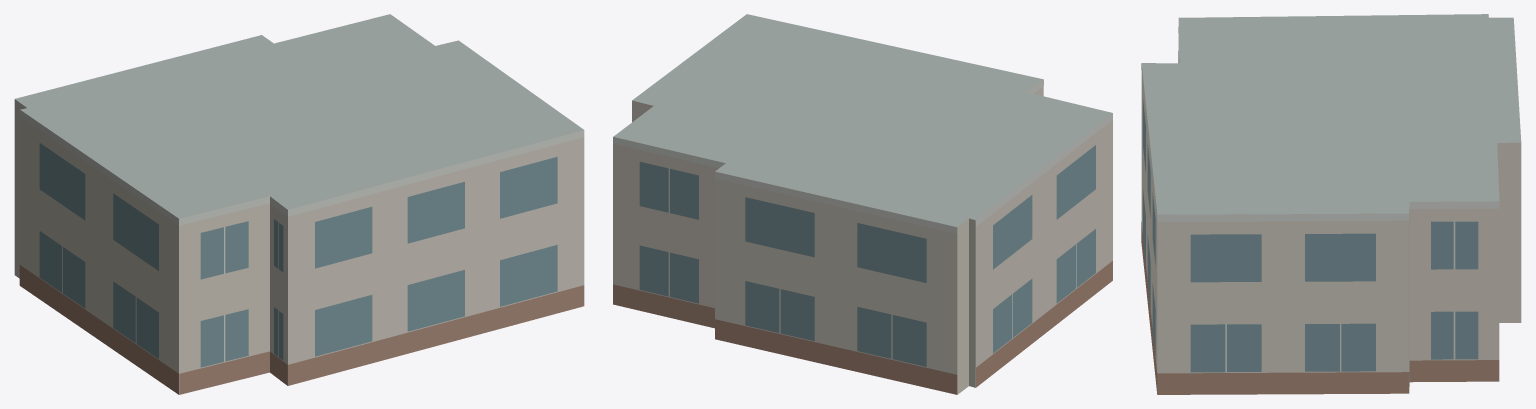
The model's file is survey-upis-32473580.glb.
The picture shows the model from 3 angles, left to right: view 1: azimuth 30°, elevation 25°; view 2: azimuth 150°, elevation 25°; view 3: azimuth 270°, elevation 25°; orthographic projection. The views are drawn at different scales.
Parts seen in each view (by area): view 1: survey-upis-32473580.tmp; view 2: survey-upis-32473580.tmp; view 3: survey-upis-32473580.tmp.
Boxes of the visible parts, left/top/right/bottom form: survey-upis-32473580.tmp: left=14, top=14, right=584, bottom=394; survey-upis-32473580.tmp: left=613, top=14, right=1112, bottom=394; survey-upis-32473580.tmp: left=1141, top=14, right=1521, bottom=394.
Size of the model in its own units: 14.6 by 6.1 by 11.67.
